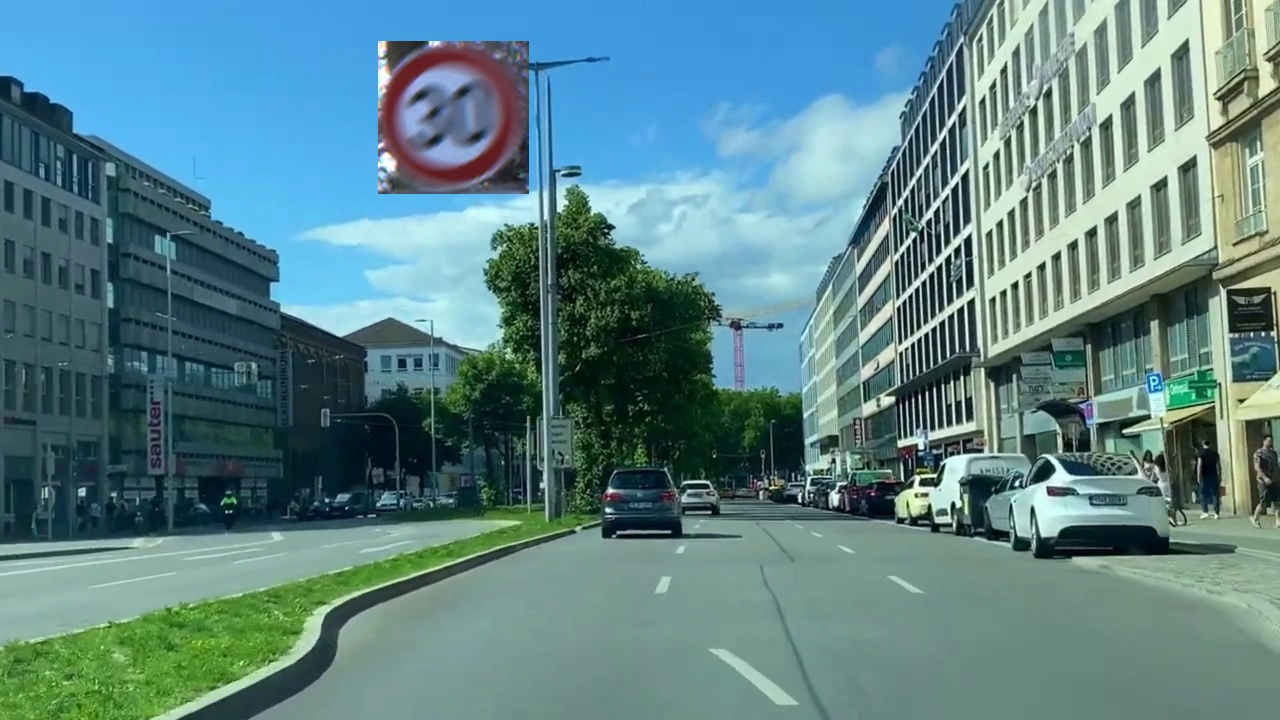Speed 30: (378, 41, 529, 194)
